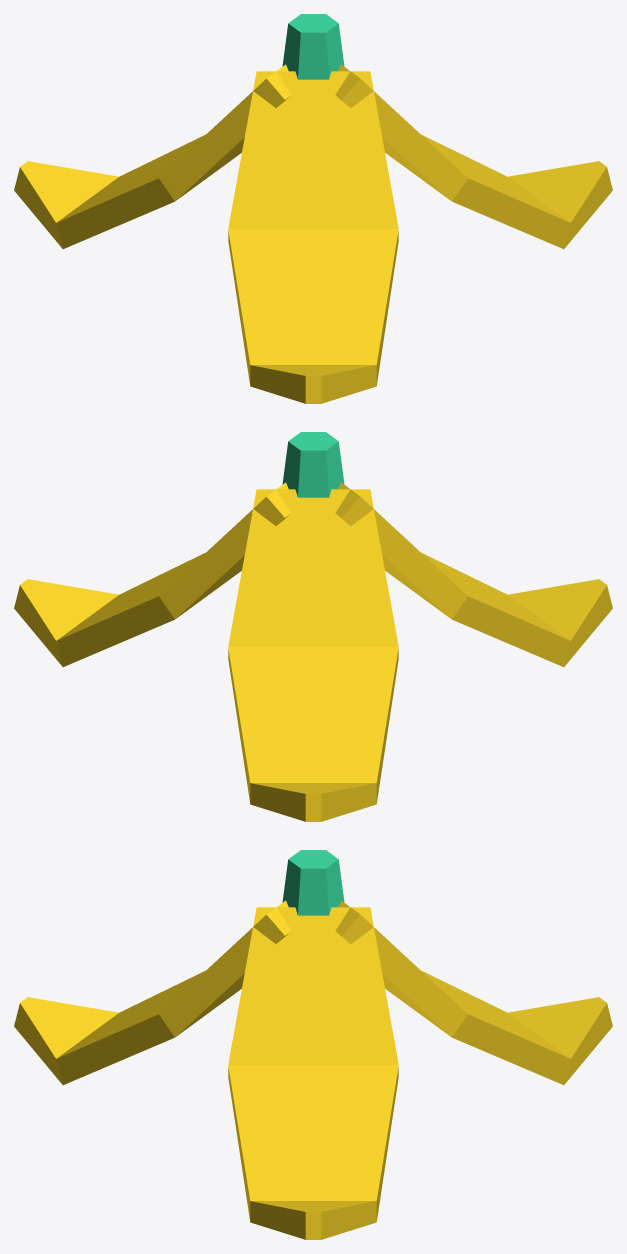
The model's file is banana.glb.
The picture shows the model from 3 angles, top to bottom: view 1: azimuth 30°, elevation 25°; view 2: azimuth 150°, elevation 25°; view 3: azimuth 270°, elevation 25°; orthographic projection.
Visible parts, largest first — view 1: Peel flap.002, Peel flap, Peel flap.001, Stem; view 2: Peel flap.001, Peel flap.002, Peel flap, Stem; view 3: Peel flap, Peel flap.001, Peel flap.002, Stem.
Boxes of the visible parts, bbox=[...] form: Peel flap.002: bbox=[228, 71, 398, 403]; Peel flap: bbox=[335, 64, 612, 249]; Peel flap.001: bbox=[14, 64, 291, 249]; Stem: bbox=[282, 14, 344, 79]; Peel flap.001: bbox=[228, 489, 398, 821]; Peel flap.002: bbox=[335, 482, 612, 667]; Peel flap: bbox=[14, 482, 291, 667]; Stem: bbox=[282, 432, 344, 497]; Peel flap: bbox=[228, 907, 398, 1239]; Peel flap.001: bbox=[335, 900, 612, 1085]; Peel flap.002: bbox=[14, 900, 291, 1085]; Stem: bbox=[282, 850, 344, 915].
Size of the model in its own units: 1.67 by 0.895 by 1.9.
